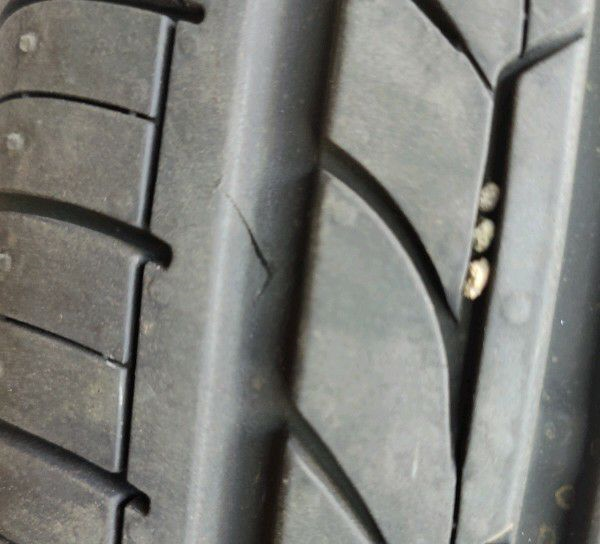tr: (226, 188, 280, 302)
